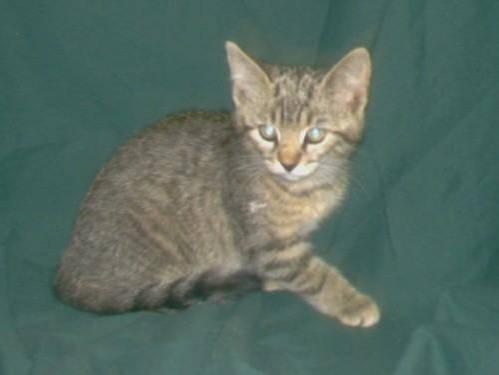cat: (56, 41, 379, 327)
